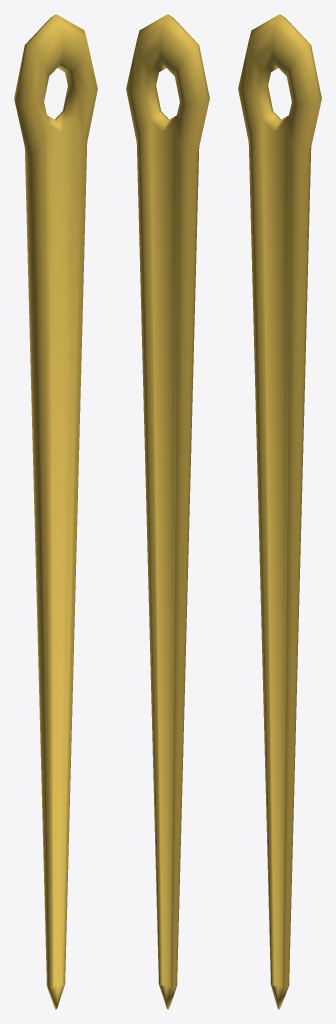
Rendered from needle.glb.
3 renders of one model, left to right at view 1: azimuth 30°, elevation 25°; view 2: azimuth 150°, elevation 25°; view 3: azimuth 330°, elevation 25°, orthographic.
Parts seen in each view (by area): view 1: Torus.002; view 2: Torus.002; view 3: Torus.002.
Boxes of the visible parts, <box> form: Torus.002: <box>14,14,97,1009</box>; Torus.002: <box>126,14,209,1009</box>; Torus.002: <box>238,14,321,1009</box>.
Bounding box in the file's own units: 0.06 × 0.7078 × 0.02.
